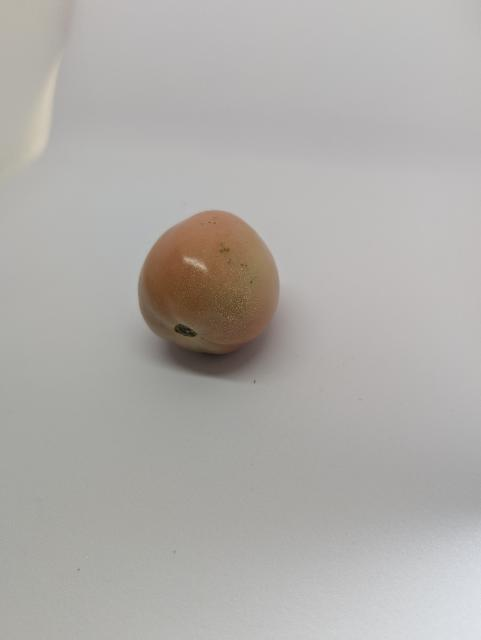turning: (132, 200, 287, 367)
